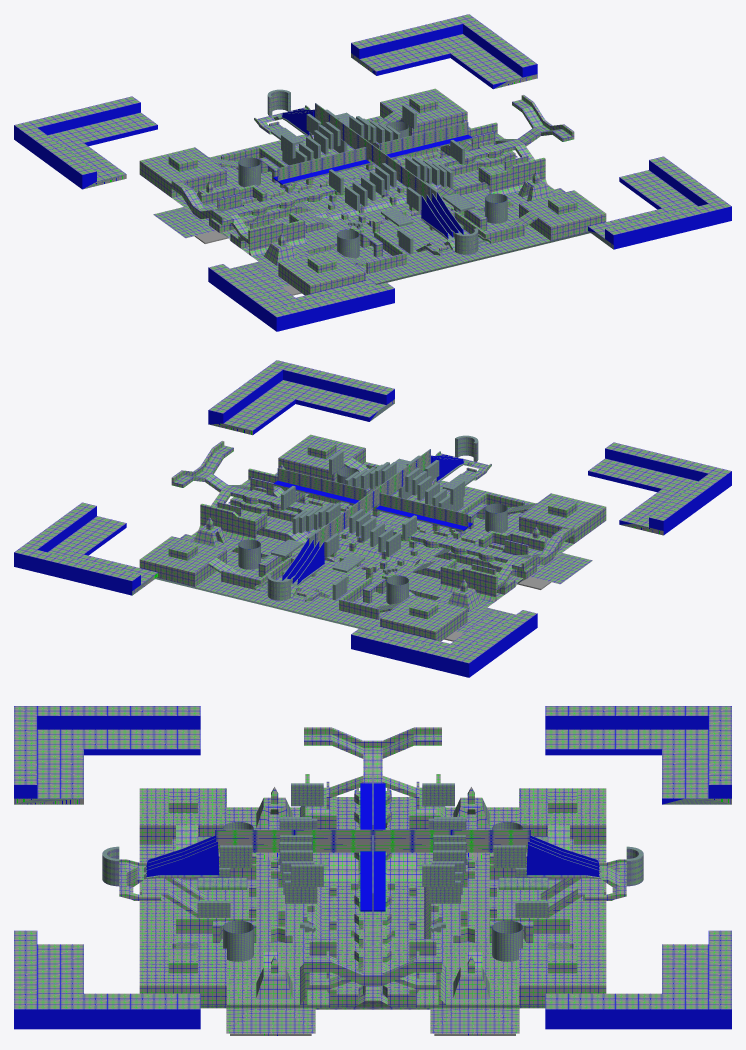
The model's file is World6.glb.
3 views of the same model, one above another, from view 1: azimuth 30°, elevation 25°; view 2: azimuth 150°, elevation 25°; view 3: azimuth 270°, elevation 25° (orthographic). The views are drawn at different scales.
Parts seen in each view (by area): view 1: Plane.001, Plane.002, Cube.005, Cylinder, Cube.004, Cube.002, Cube.012, Cube.001, Cube.015, Cube.006, Cube.009, Cube.007 (+5 smaller); view 2: Plane.001, Plane.002, Cube.005, Cylinder, Cube.004, Cube.002, Cube.012, Cube.001, Cube.015, Cube.006, Cube.009, Cube.007 (+5 smaller); view 3: Plane.001, Plane.002, Cube.004, Cube.002, Cube.012, Cube.005, Cylinder, Cube.003, Cube.001, Cube, Cube.015, Cube.011 (+3 smaller).
Part boxes in pixels (bbox=[...]): Plane.001: bbox=[139, 88, 606, 295]; Plane.002: bbox=[14, 14, 731, 331]; Cube.005: bbox=[273, 122, 472, 185]; Cylinder: bbox=[238, 121, 507, 258]; Cube.004: bbox=[315, 103, 430, 200]; Cube.002: bbox=[281, 109, 463, 240]; Cube.012: bbox=[281, 104, 464, 193]; Cube.001: bbox=[271, 112, 474, 226]; Cube.015: bbox=[267, 89, 478, 254]; Cube.006: bbox=[325, 116, 420, 187]; Cube.009: bbox=[306, 121, 439, 200]; Cube.007: bbox=[318, 116, 427, 190]; Plane.001: bbox=[139, 434, 606, 641]; Plane.002: bbox=[14, 360, 731, 677]; Cube.005: bbox=[273, 468, 472, 531]; Cylinder: bbox=[238, 467, 507, 604]; Cube.004: bbox=[315, 449, 430, 546]; Cube.002: bbox=[282, 455, 464, 586]; Cube.012: bbox=[281, 450, 464, 539]; Cube.001: bbox=[271, 458, 474, 572]; Cube.015: bbox=[267, 435, 478, 600]; Cube.006: bbox=[325, 462, 420, 533]; Cube.009: bbox=[306, 467, 439, 546]; Cube.007: bbox=[318, 462, 427, 536]; Plane.001: bbox=[119, 727, 626, 1035]; Plane.002: bbox=[14, 706, 731, 1029]; Cube.004: bbox=[215, 829, 530, 852]; Cube.002: bbox=[144, 835, 601, 879]; Cube.012: bbox=[291, 783, 454, 886]; Cube.005: bbox=[360, 766, 385, 911]; Cylinder: bbox=[223, 822, 522, 961]; Cube.003: bbox=[220, 845, 525, 867]; Cube.001: bbox=[197, 836, 548, 889]; Cube: bbox=[197, 867, 548, 917]; Cube.015: bbox=[102, 846, 643, 886]; Cube.011: bbox=[285, 818, 460, 903].
Bounding box in the file's own units: 308 × 58.06 × 308.
1 material, 1 textured.
